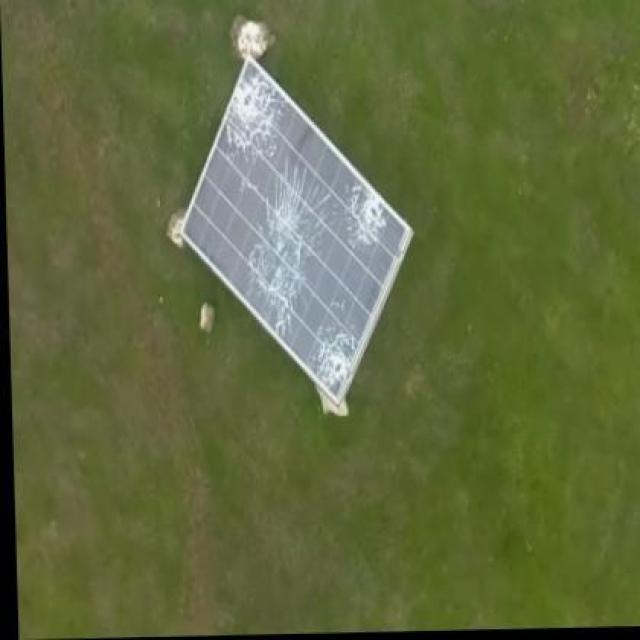cracked: (170, 56, 420, 407)
